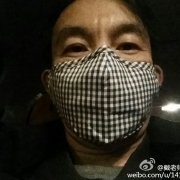Mask: (51, 20, 157, 126)
